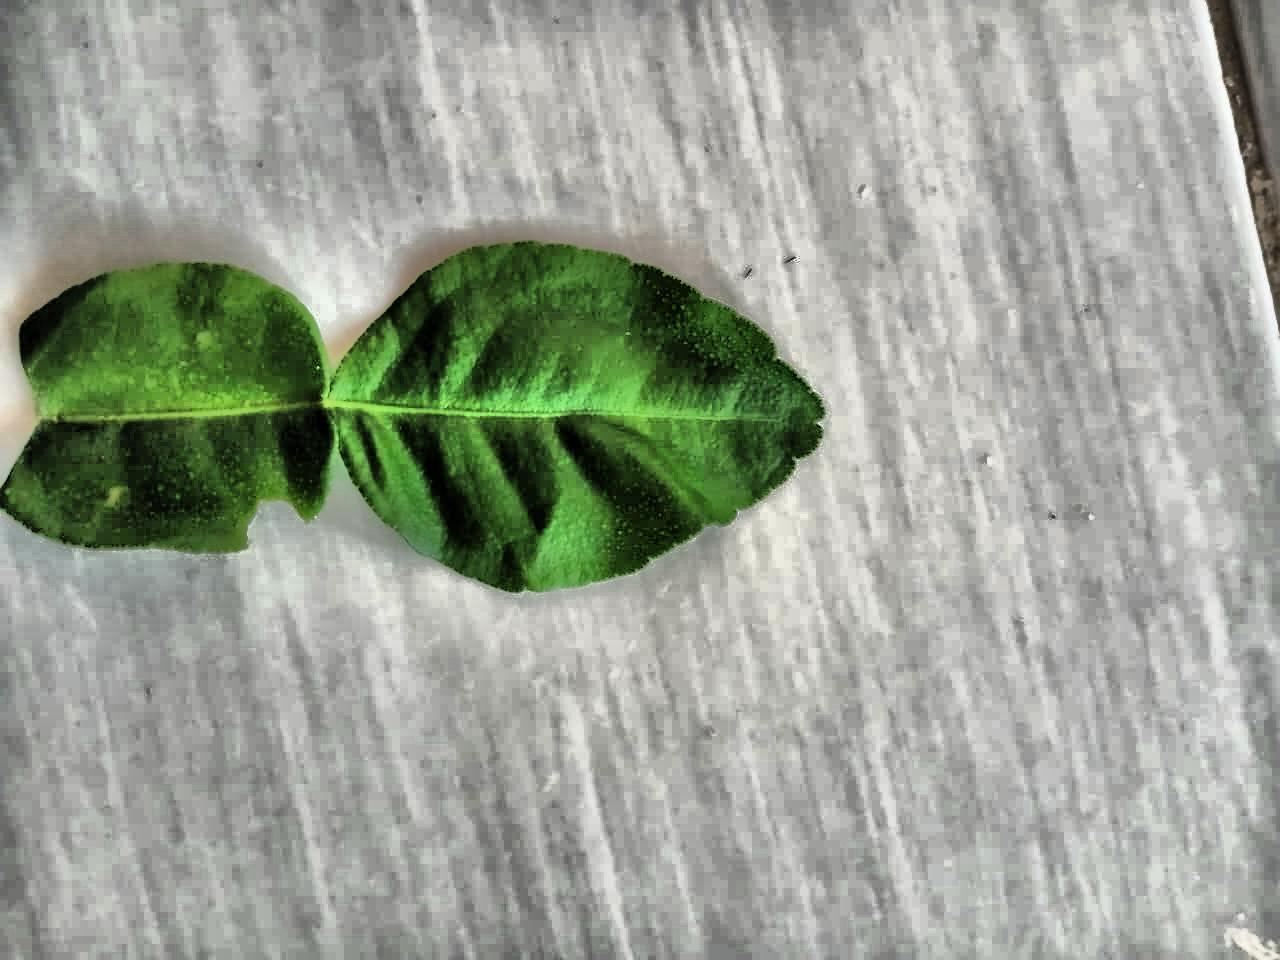daun jeruk: (0, 241, 823, 591)
